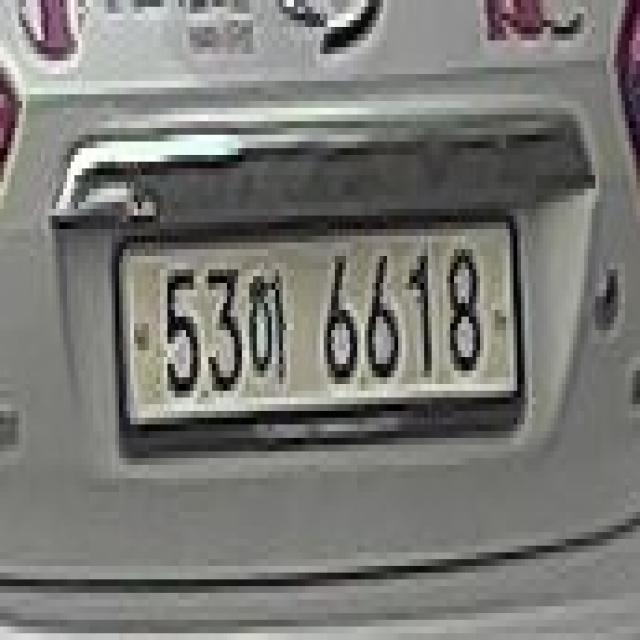1: (406, 251, 439, 388)
3: (202, 262, 245, 406)
5: (160, 264, 200, 408)
6: (319, 248, 360, 396), (366, 245, 402, 400)
8: (442, 244, 484, 381)
ha: (246, 260, 294, 393)
license_plate: (108, 222, 532, 428)
